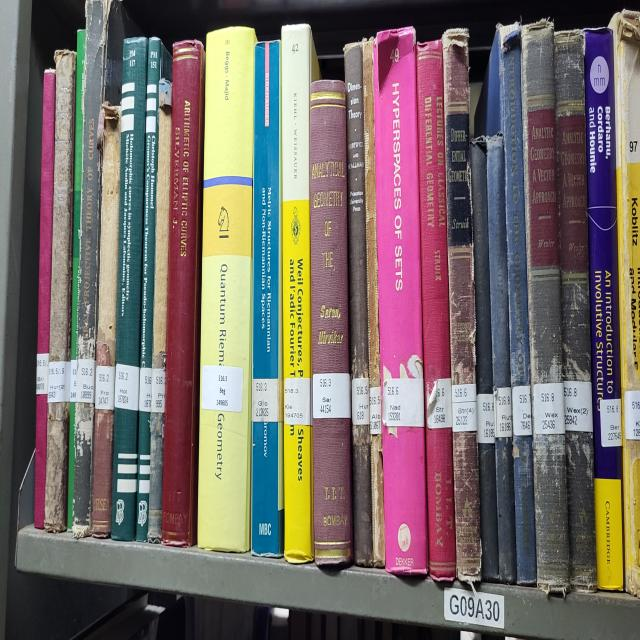Book: (475, 22, 536, 584), (198, 27, 256, 552), (374, 27, 428, 574), (521, 22, 569, 595), (554, 32, 598, 590), (161, 41, 205, 547), (585, 30, 624, 590), (416, 41, 456, 582), (442, 30, 481, 584), (281, 24, 320, 563), (72, 0, 110, 536), (310, 81, 352, 565), (111, 38, 148, 541), (251, 41, 285, 555), (344, 43, 374, 565), (45, 51, 76, 533), (486, 133, 516, 584), (136, 38, 162, 541), (470, 138, 499, 582), (92, 103, 121, 538), (362, 38, 385, 565), (149, 78, 172, 541), (34, 68, 56, 528), (68, 30, 86, 528)
Label: (382, 379, 424, 427), (201, 365, 244, 411), (532, 381, 565, 436), (312, 373, 350, 419), (564, 381, 592, 433), (284, 376, 311, 425), (451, 384, 478, 433), (426, 379, 452, 427), (115, 363, 140, 411), (252, 379, 279, 422), (512, 384, 532, 436), (600, 398, 621, 446), (476, 392, 495, 444), (351, 376, 370, 425), (95, 365, 115, 411), (494, 387, 512, 438), (76, 360, 95, 403), (48, 360, 66, 403), (151, 368, 165, 414), (139, 365, 152, 411), (369, 387, 381, 436), (36, 354, 49, 395), (70, 360, 78, 403)
